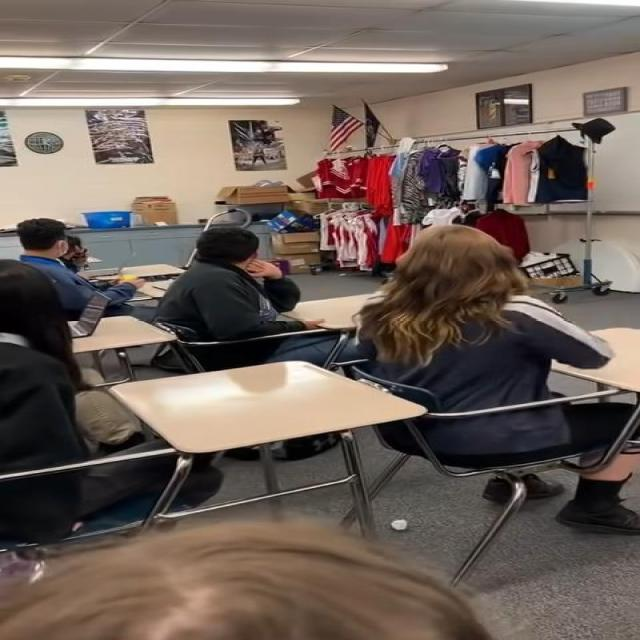Mask: (52, 230, 70, 258)
